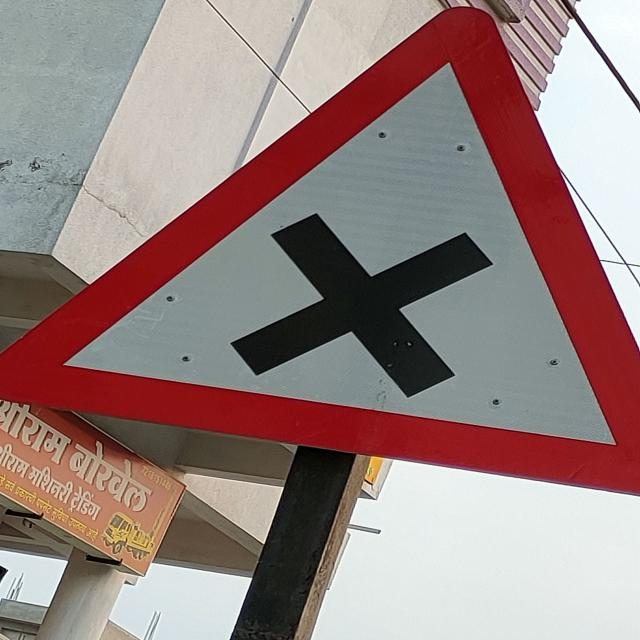cross_road: (0, 0, 640, 498)
